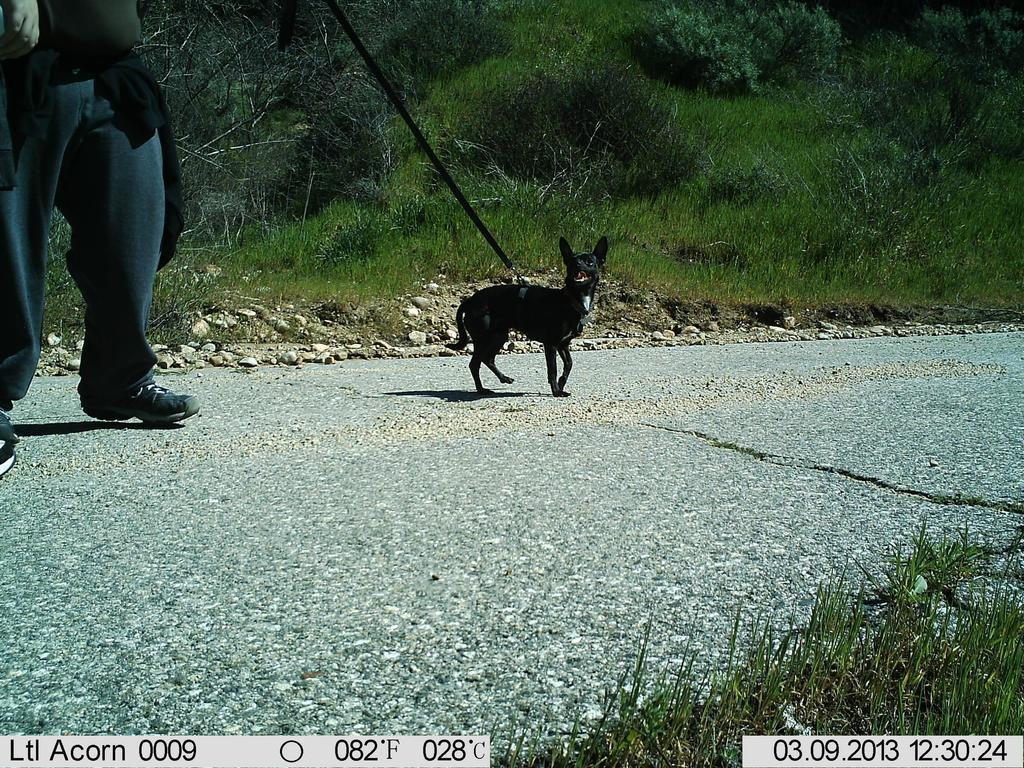dog: (451, 233, 612, 395)
